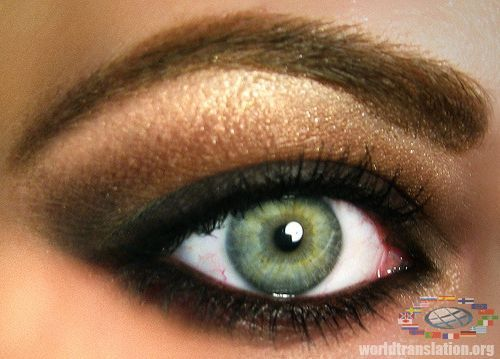iris: (225, 185, 344, 297)
pupil: (274, 221, 303, 251)
